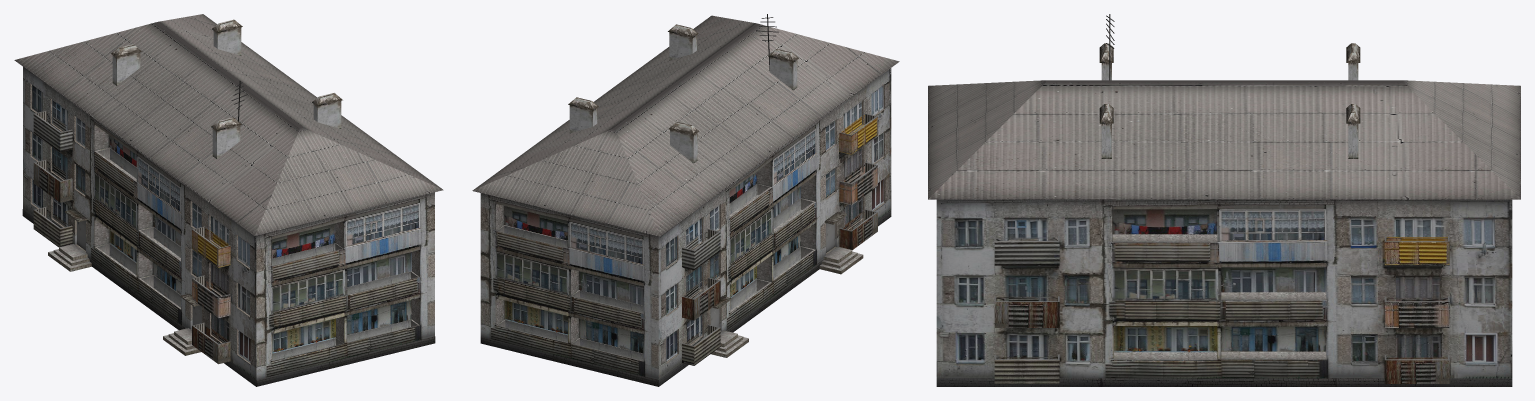
Rendered from d_dom_3et.fbx.
The picture shows the model from 3 angles, left to right: view 1: azimuth 30°, elevation 25°; view 2: azimuth 150°, elevation 25°; view 3: azimuth 270°, elevation 25°; orthographic projection. The views are drawn at different scales.
Parts seen in each view (by area): view 1: Box001; view 2: Box001; view 3: Box001.
Boxes of the visible parts, x1,y1,x2,y2 form: Box001: (14,14,443,386); Box001: (472,14,899,386); Box001: (928,14,1520,386).
Bounding box in the file's own units: 13.21 × 14.53 × 26.23.
1 material, 1 textured.
